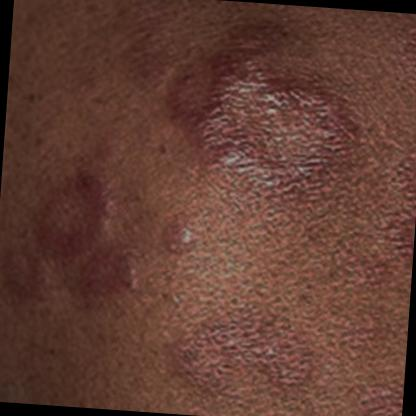Leprosy: (147, 34, 395, 206), (146, 300, 338, 412), (21, 160, 153, 316), (153, 206, 216, 268)
